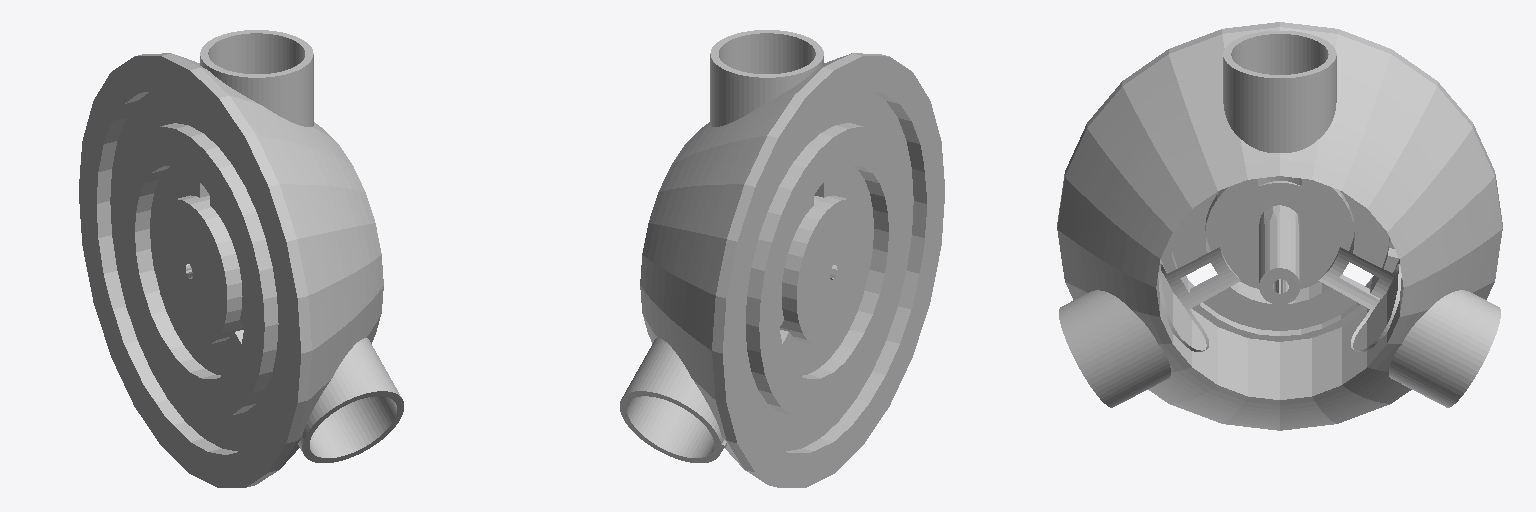
File: Nabe.obj
3 views of the same model, side by side, from view 1: azimuth 30°, elevation 25°; view 2: azimuth 150°, elevation 25°; view 3: azimuth 270°, elevation 25° (orthographic).
Visible parts, largest first — view 1: Windkraftanlage-Nabe; view 2: Windkraftanlage-Nabe; view 3: Windkraftanlage-Nabe.
Part boxes in pixels (x1,y1,x2,y2): Windkraftanlage-Nabe: (79,30,403,487); Windkraftanlage-Nabe: (620,30,944,487); Windkraftanlage-Nabe: (1057,22,1502,430).
Size of the model in its own units: 24.47 by 71.52 by 71.51.